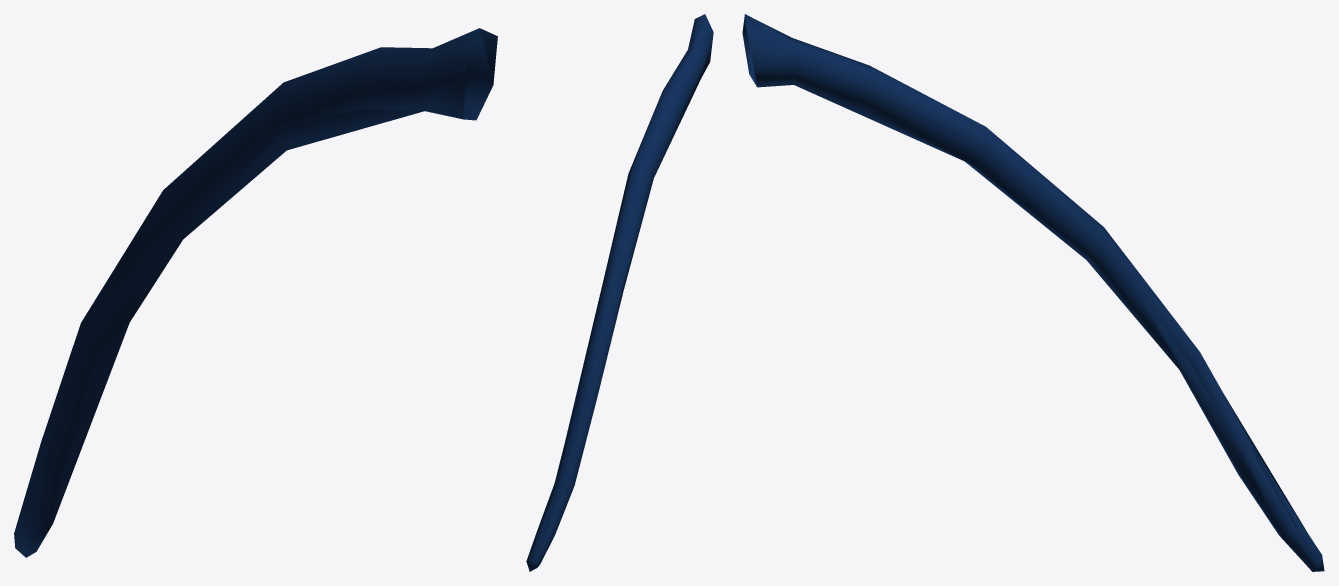
Rendered from L venus genus descendens.fbx.
3 views of the same model, side by side, from view 1: azimuth 30°, elevation 25°; view 2: azimuth 150°, elevation 25°; view 3: azimuth 270°, elevation 25° (orthographic). The views are drawn at different scales.
Visible parts, largest first — view 1: L venus genus descendens, L venus genus descendens low; view 2: L venus genus descendens, L venus genus descendens low; view 3: L venus genus descendens, L venus genus descendens low.
Boxes of the visible parts, x1,y1,x2,y2 form: L venus genus descendens: [14, 28, 497, 557]; L venus genus descendens low: [53, 28, 493, 520]; L venus genus descendens: [526, 14, 713, 571]; L venus genus descendens low: [527, 14, 713, 559]; L venus genus descendens: [742, 14, 1324, 571]; L venus genus descendens low: [742, 14, 1315, 559].
Size of the model in its own units: 1.07 by 7.42 by 6.8.
